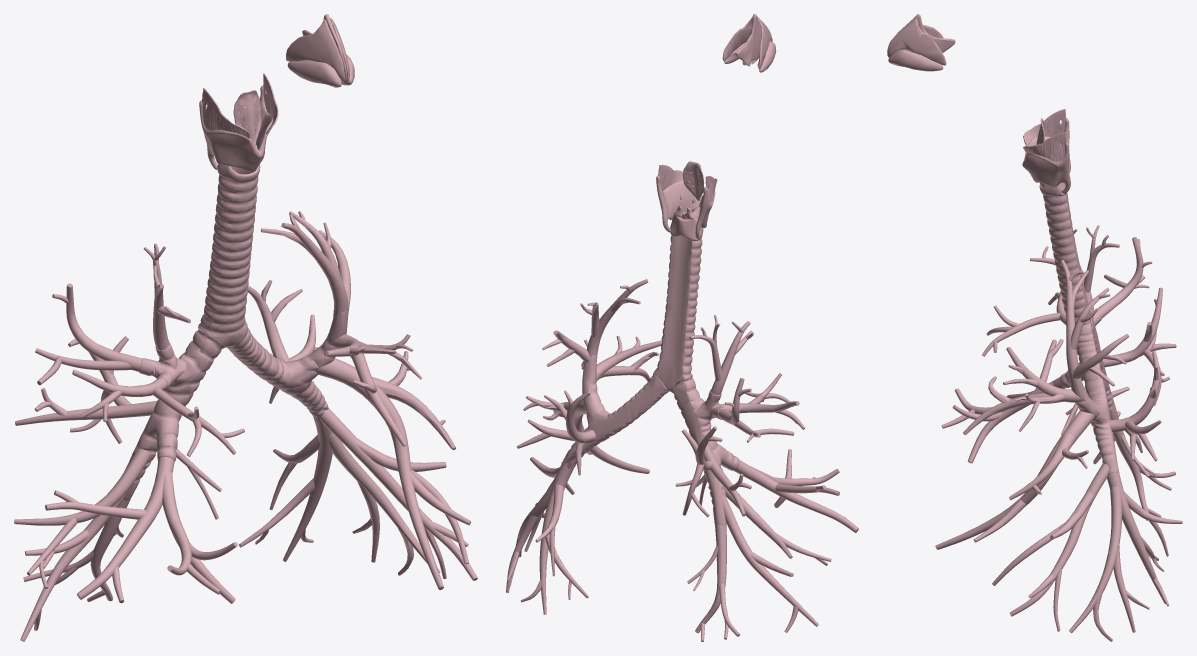
File: respiratory.glb
The picture shows the model from 3 angles, left to right: view 1: azimuth 30°, elevation 25°; view 2: azimuth 150°, elevation 25°; view 3: azimuth 270°, elevation 25°; orthographic projection. The views are drawn at different scales.
Parts seen in each view (by area): view 1: FMA7394, FMA68418, FMA7396, FMA68227, FMA68215, FMA68233, FMA68232, FMA68216, FMA68212, FMA55099, FMA68214, FMA68213 (+14 smaller); view 2: FMA7394, FMA7396, FMA68418, FMA68233, FMA68216, FMA68215, FMA68220, FMA68228, FMA68221, FMA55099, FMA68222, FMA68211 (+11 smaller); view 3: FMA7396, FMA7394, FMA68232, FMA68222, FMA68233, FMA68227, FMA68223, FMA68228, FMA55099, FMA68230, FMA68231, FMA68216 (+14 smaller).
Boxes of the visible parts, x1,y1,x2,y2 form: FMA7394: [198, 175, 258, 347]; FMA68418: [124, 327, 225, 500]; FMA7396: [227, 309, 348, 422]; FMA68227: [314, 358, 470, 589]; FMA68215: [45, 447, 175, 603]; FMA68233: [239, 412, 332, 561]; FMA68232: [329, 432, 440, 575]; FMA68216: [15, 336, 157, 443]; FMA68212: [72, 369, 244, 456]; FMA55099: [199, 85, 273, 172]; FMA68214: [162, 471, 237, 603]; FMA68213: [35, 283, 157, 385]; FMA7394: [654, 235, 702, 391]; FMA7396: [561, 355, 668, 469]; FMA68418: [671, 375, 739, 525]; FMA68233: [520, 454, 588, 614]; FMA68216: [675, 426, 751, 517]; FMA68215: [734, 457, 858, 532]; FMA68220: [721, 495, 818, 632]; FMA68228: [516, 390, 596, 475]; FMA68221: [687, 524, 740, 641]; FMA55099: [656, 175, 715, 238]; FMA68222: [581, 336, 662, 382]; FMA68211: [689, 315, 754, 395]; FMA7396: [1068, 330, 1118, 474]; FMA7394: [1043, 192, 1092, 333]; FMA68232: [1069, 486, 1149, 641]; FMA68222: [963, 347, 1081, 435]; FMA68233: [1107, 461, 1182, 606]; FMA68227: [935, 410, 1094, 549]; FMA68223: [1061, 260, 1110, 401]; FMA68228: [1109, 351, 1161, 461]; FMA55099: [1022, 118, 1070, 193]; FMA68230: [1009, 462, 1108, 616]; FMA68231: [992, 491, 1093, 631]; FMA68216: [1103, 287, 1176, 405].
Size of the model in its own units: 0.489 by 0.7925 by 0.3843.
